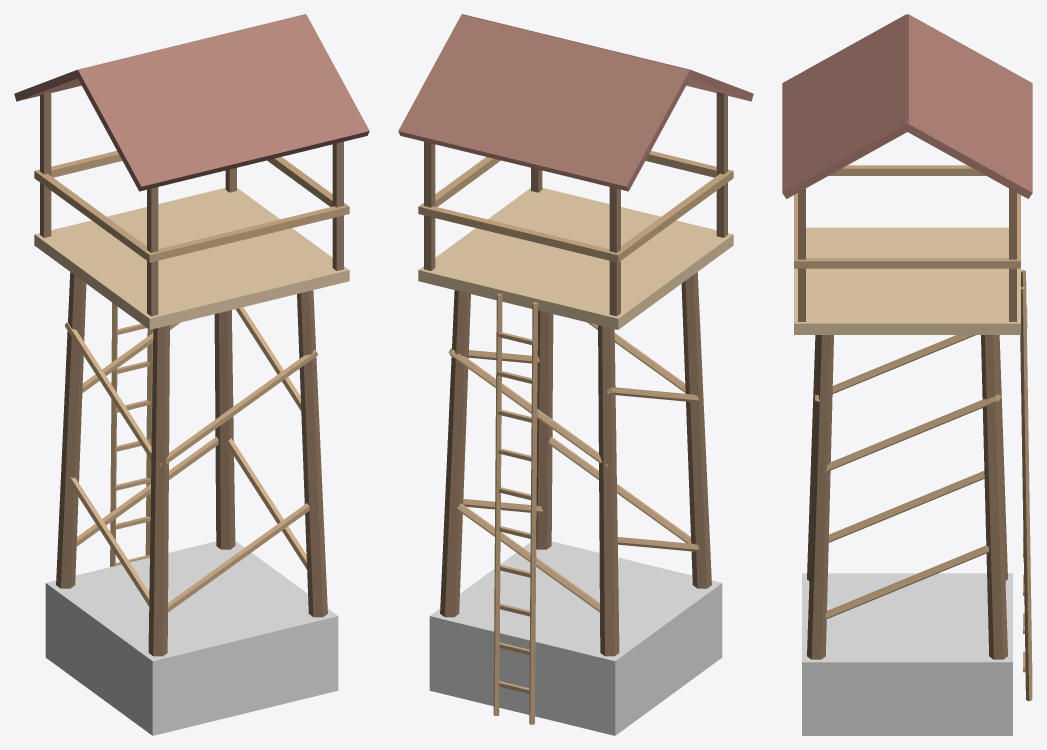
The model's file is Watchtower.fbx.
The picture shows the model from 3 angles, left to right: view 1: azimuth 30°, elevation 25°; view 2: azimuth 150°, elevation 25°; view 3: azimuth 270°, elevation 25°; orthographic projection.
Visible parts, largest first — view 1: Watchtower_Mesh, COL_Base; view 2: Watchtower_Mesh, COL_Base; view 3: Watchtower_Mesh, COL_Base.
Boxes of the visible parts, x1,y1,x2,y2 form: Watchtower_Mesh: [14, 14, 369, 656]; COL_Base: [45, 541, 338, 735]; Watchtower_Mesh: [398, 14, 753, 724]; COL_Base: [429, 541, 722, 735]; Watchtower_Mesh: [782, 14, 1032, 701]; COL_Base: [802, 573, 1012, 735].
Size of the model in its own units: 3.2 by 8.47 by 3.09.
